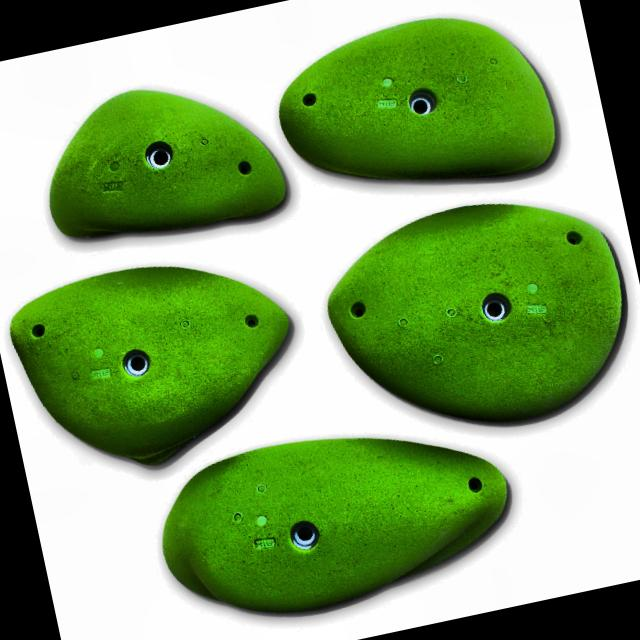Hold: (304, 176, 640, 455), (146, 402, 522, 634), (0, 229, 317, 483), (272, 0, 575, 222), (32, 59, 295, 262)
